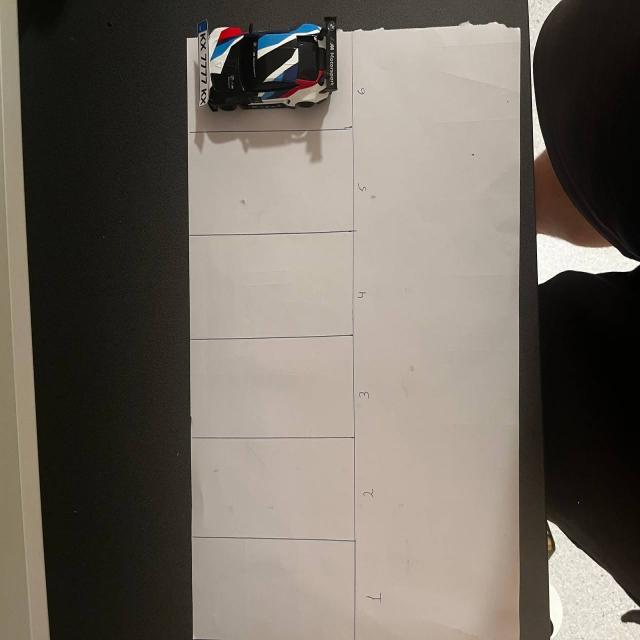KX 7777 KX: (194, 19, 210, 108)
